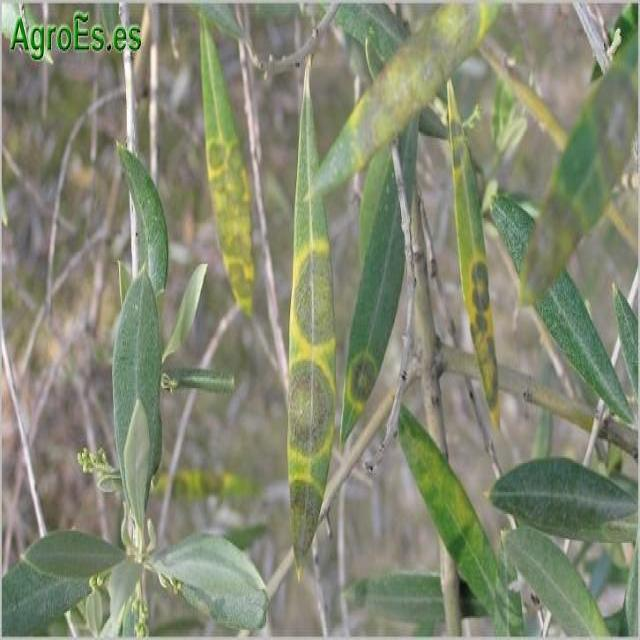Peacock Eye: (400, 405, 521, 618), (288, 61, 335, 580), (440, 83, 498, 427), (341, 153, 404, 439), (200, 17, 254, 317)
